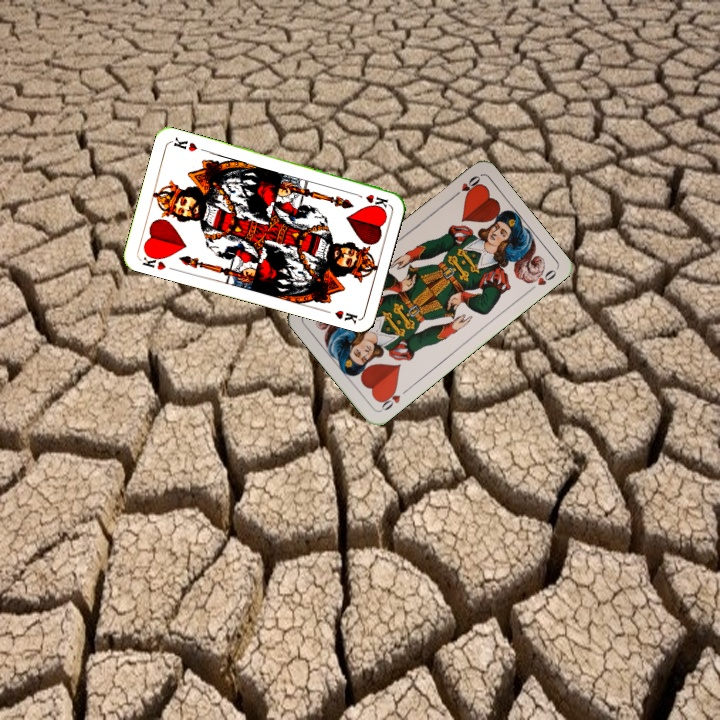HK: (350, 189, 390, 210), (137, 248, 168, 273)
HO: (376, 384, 411, 414), (448, 171, 483, 201)
